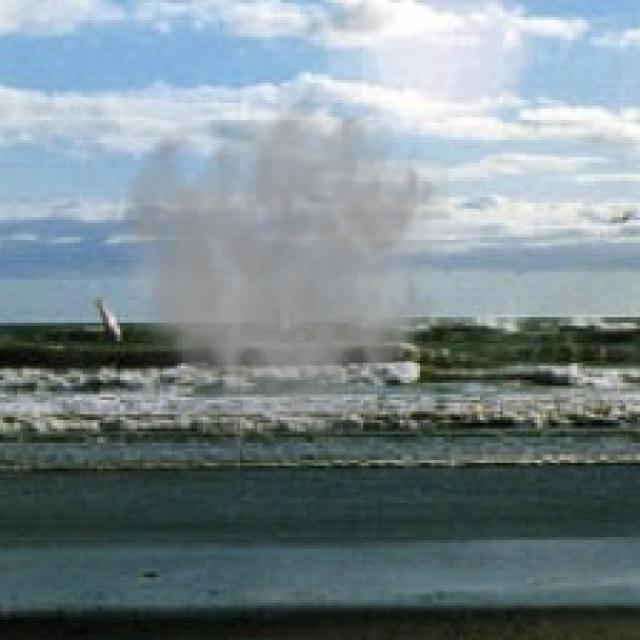Smoke: (91, 86, 448, 452)
